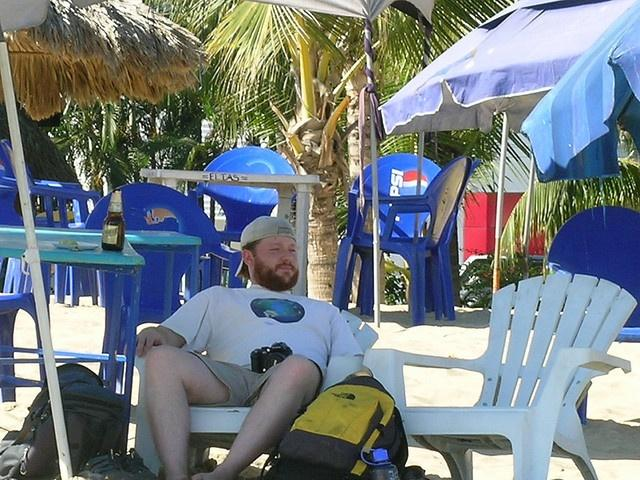Kursi: (369, 271, 637, 479)
